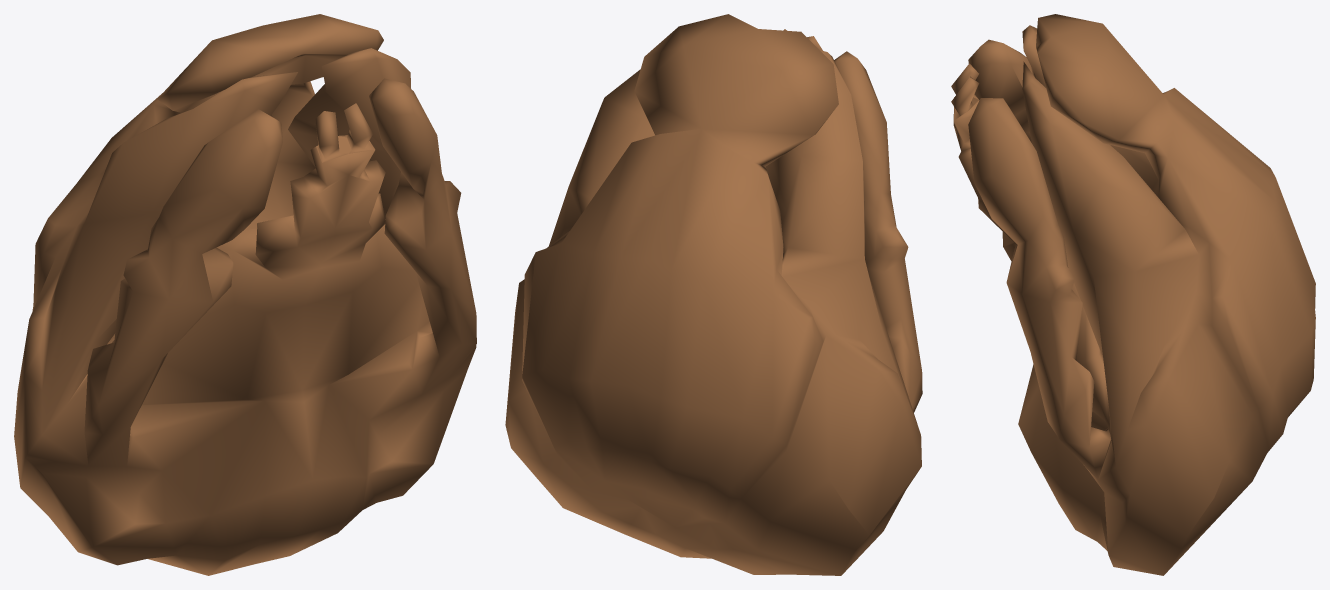
Rendered from Acrididae.fbx.
The picture shows the model from 3 angles, left to right: view 1: azimuth 30°, elevation 25°; view 2: azimuth 150°, elevation 25°; view 3: azimuth 270°, elevation 25°; orthographic projection. The views are drawn at different scales.
Visible parts, largest first — view 1: Acrididae - MAVG; view 2: Acrididae - MAVG; view 3: Acrididae - MAVG.
Part boxes in pixels (x1,y1,x2,y2): Acrididae - MAVG: [14, 14, 476, 575]; Acrididae - MAVG: [505, 14, 922, 575]; Acrididae - MAVG: [951, 14, 1315, 575].
Size of the model in its own units: 72.6 by 86.77 by 56.5.
